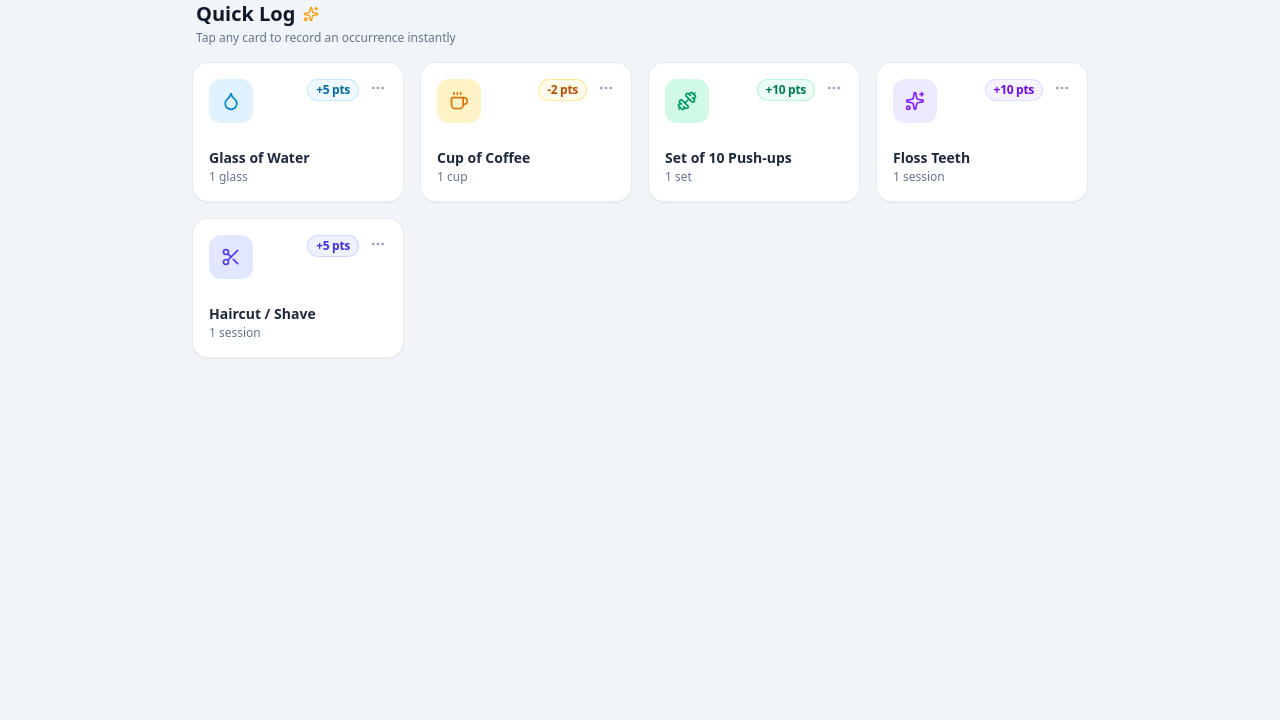
Test: LogView › selects a Subtype in the quick-log sheet and logs occurrence with subtype snapshot and point override
This screenshot has width=1280, height=720.
Expected: the element showing "-2 pts Cup of Coffee 1 cup" is shown, [420,62,632,202]
Click the button with test id "custom-quantity-button": (606, 88) [594,76,618,100]
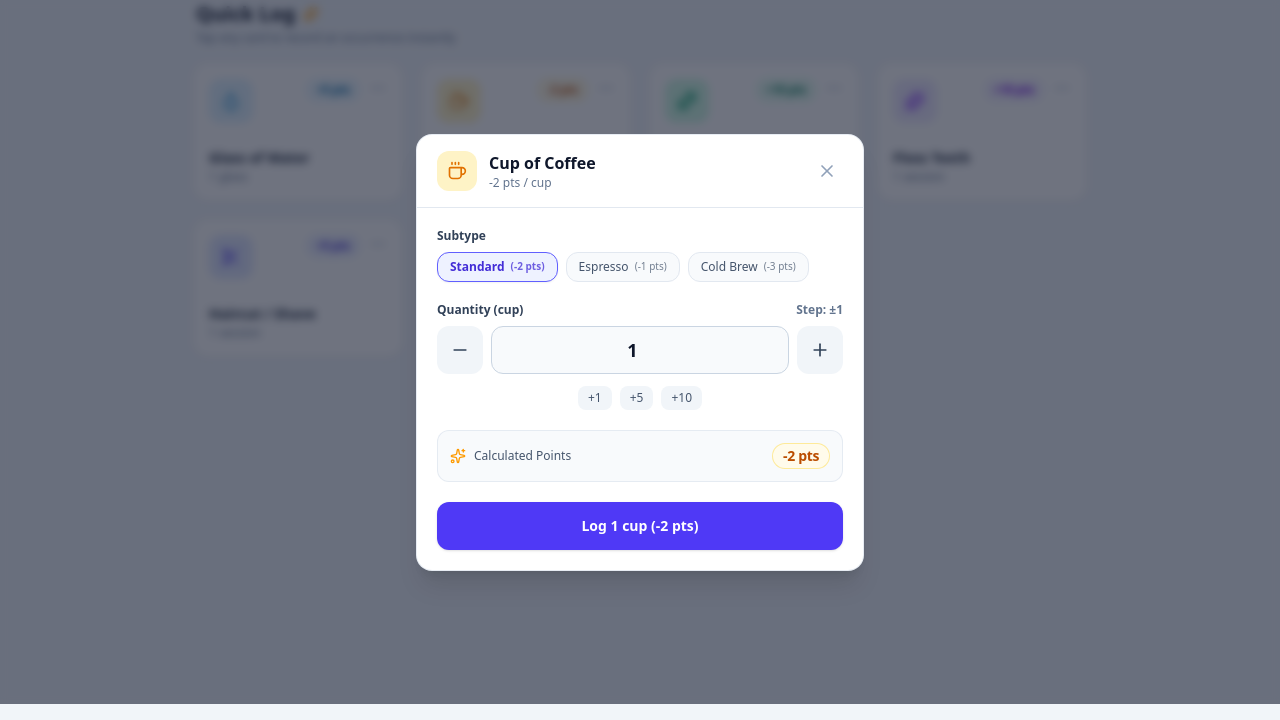
Expected: the dialog is shown
Expected: the element with test id "subtype-selection" is shown, [437,228,843,282]
Expected: the button with test id "subtype-option-seed-sub-espresso" is shown
Click the button with test id "subtype-option-seed-sub-espresso": (623, 266) [566,252,680,282]
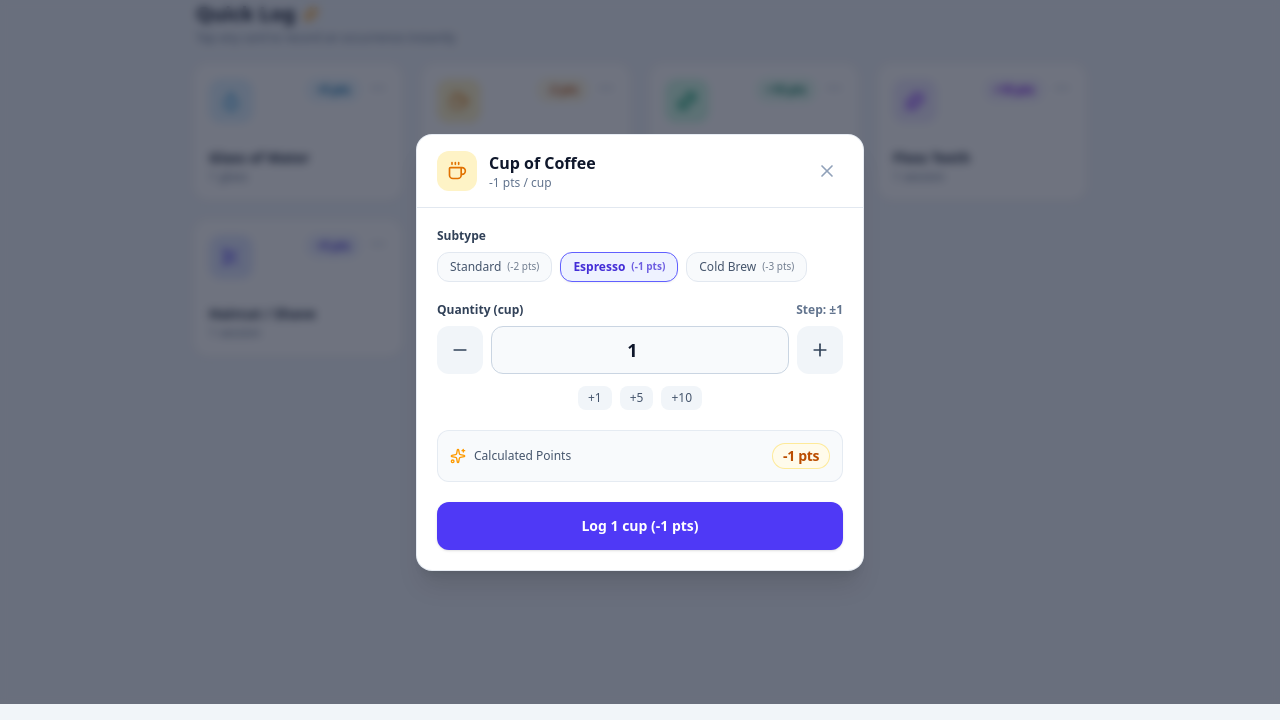
Replace the text in the number field with test id "quantity-input" with "2": (640, 350) [491,326,789,374]
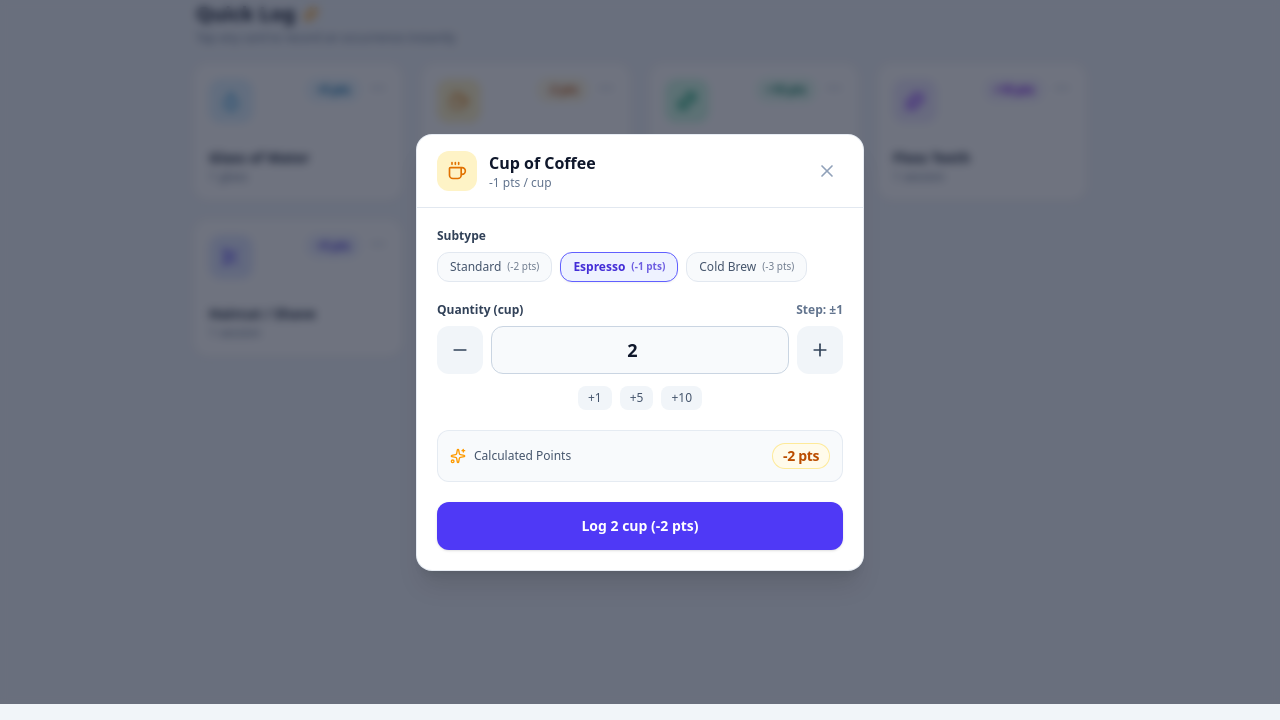
Submit the form, box [417,208,863,570]
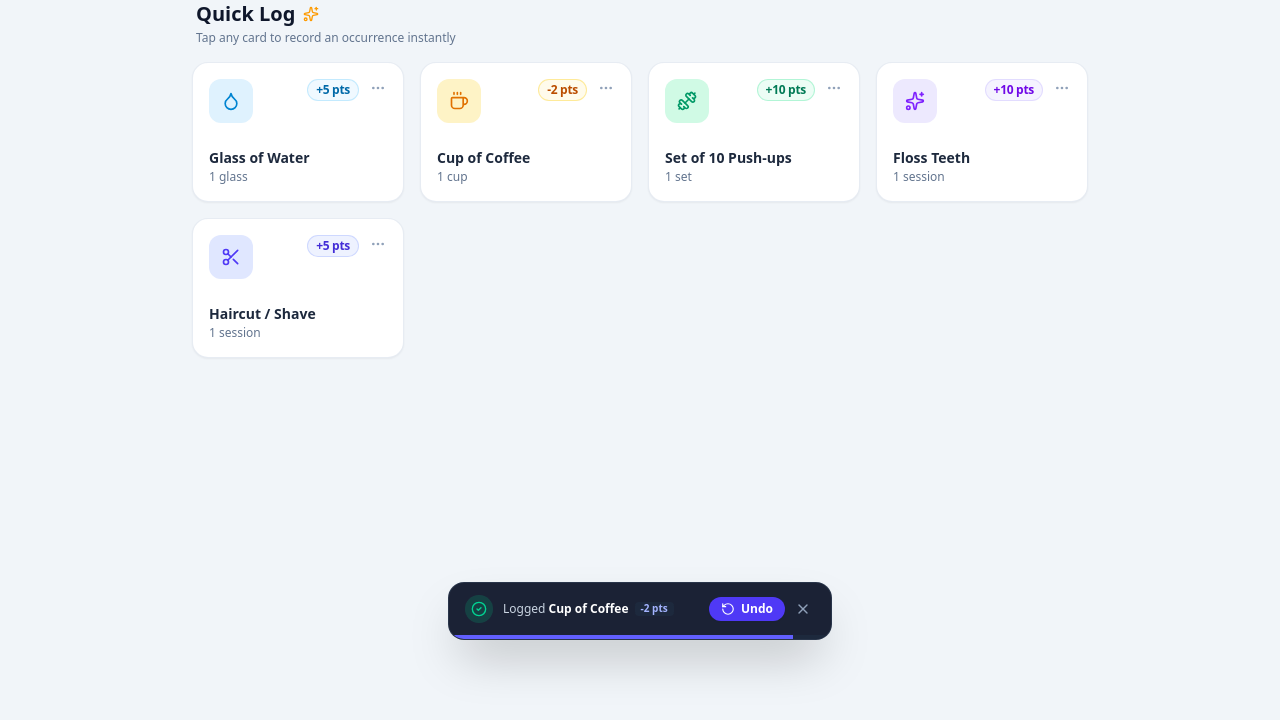
Expected: the text "-2 pts" is shown, [538,79,587,101]
Expected: the message "Logged Cup of Coffee -2 pts Undo" is shown, [448,582,832,640]
